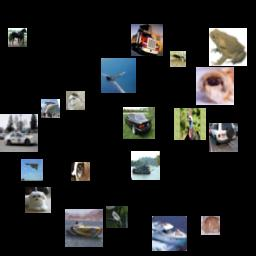airplane: (101, 58, 136, 93), (21, 159, 43, 181)
automobile: (0, 114, 38, 152), (123, 107, 155, 139), (209, 123, 238, 152)
bird: (174, 108, 206, 140), (106, 206, 128, 228), (66, 91, 85, 110)
cat: (201, 216, 220, 235), (71, 162, 90, 181)
deer: (170, 51, 186, 67)
dog: (196, 67, 234, 105), (25, 187, 51, 213)
frog: (209, 28, 247, 66)
ship: (65, 209, 103, 247), (152, 216, 187, 251), (131, 151, 160, 180), (41, 99, 60, 118)
truck: (131, 24, 163, 56)
